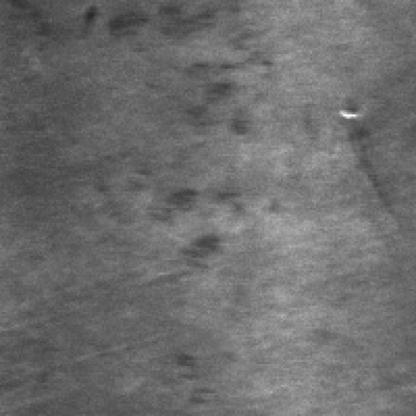rolled-in_scale: (88, 6, 272, 277), (179, 354, 223, 410)
